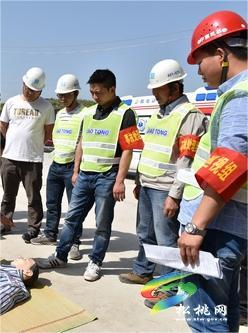up: (173, 9, 248, 330), (121, 54, 200, 287), (51, 62, 135, 278), (1, 62, 47, 241), (41, 73, 85, 248)
